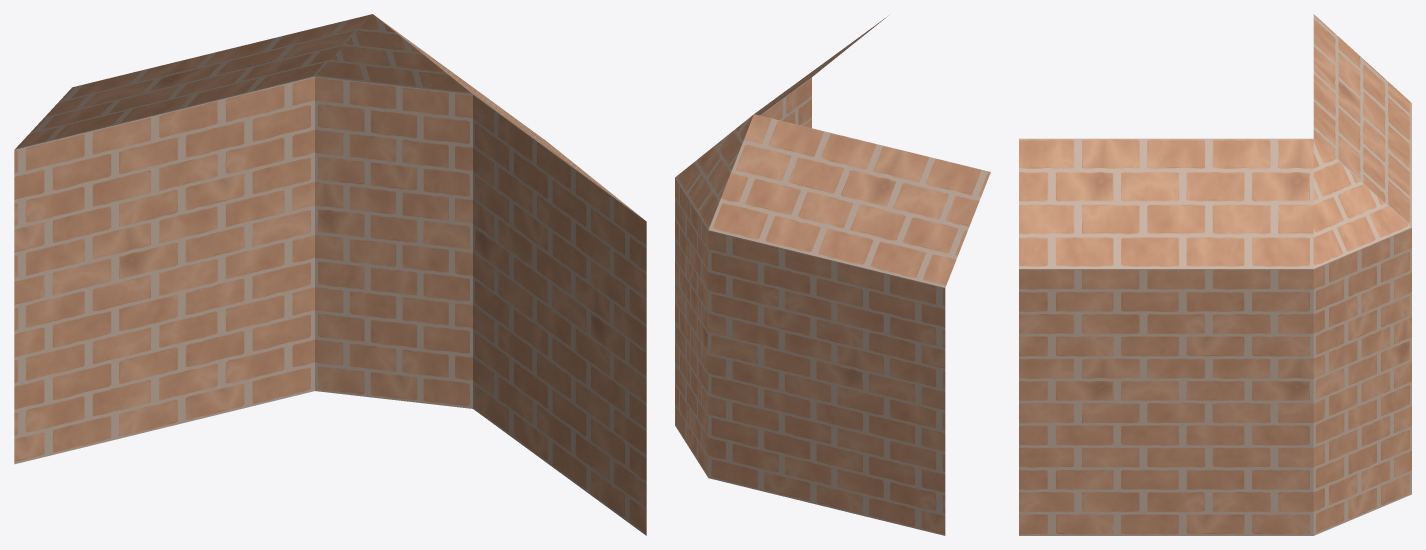
The model's file is Top_Temp_Wall_Rev_Cor.fbx.
The picture shows the model from 3 angles, left to right: view 1: azimuth 30°, elevation 25°; view 2: azimuth 150°, elevation 25°; view 3: azimuth 270°, elevation 25°; orthographic projection. The views are drawn at different scales.
Parts seen in each view (by area): view 1: Top_Temp_Wall_Rev_Cor; view 2: Top_Temp_Wall_Rev_Cor; view 3: Top_Temp_Wall_Rev_Cor.
Part boxes in pixels (left/top/right/bottom): Top_Temp_Wall_Rev_Cor: left=14, top=14, right=646, bottom=535; Top_Temp_Wall_Rev_Cor: left=675, top=15, right=990, bottom=535; Top_Temp_Wall_Rev_Cor: left=1019, top=14, right=1411, bottom=535.
Bounding box in the file's own units: 100 × 100 × 100.
Materials: 1 (1 with a texture image).
